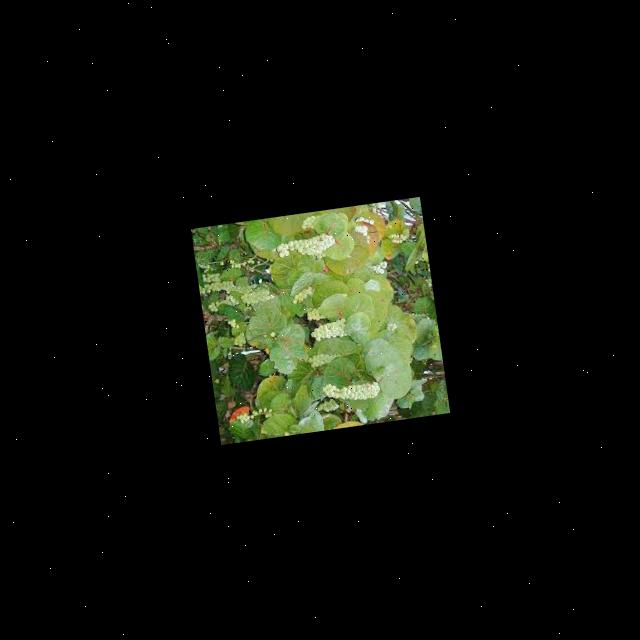grape: (273, 232, 337, 260), (322, 376, 382, 404)
